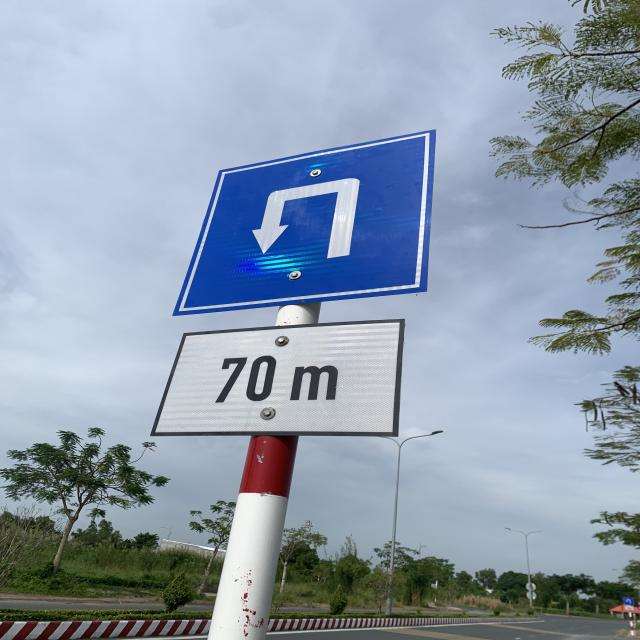Den_Giao_Thong: (173, 130, 438, 315)
